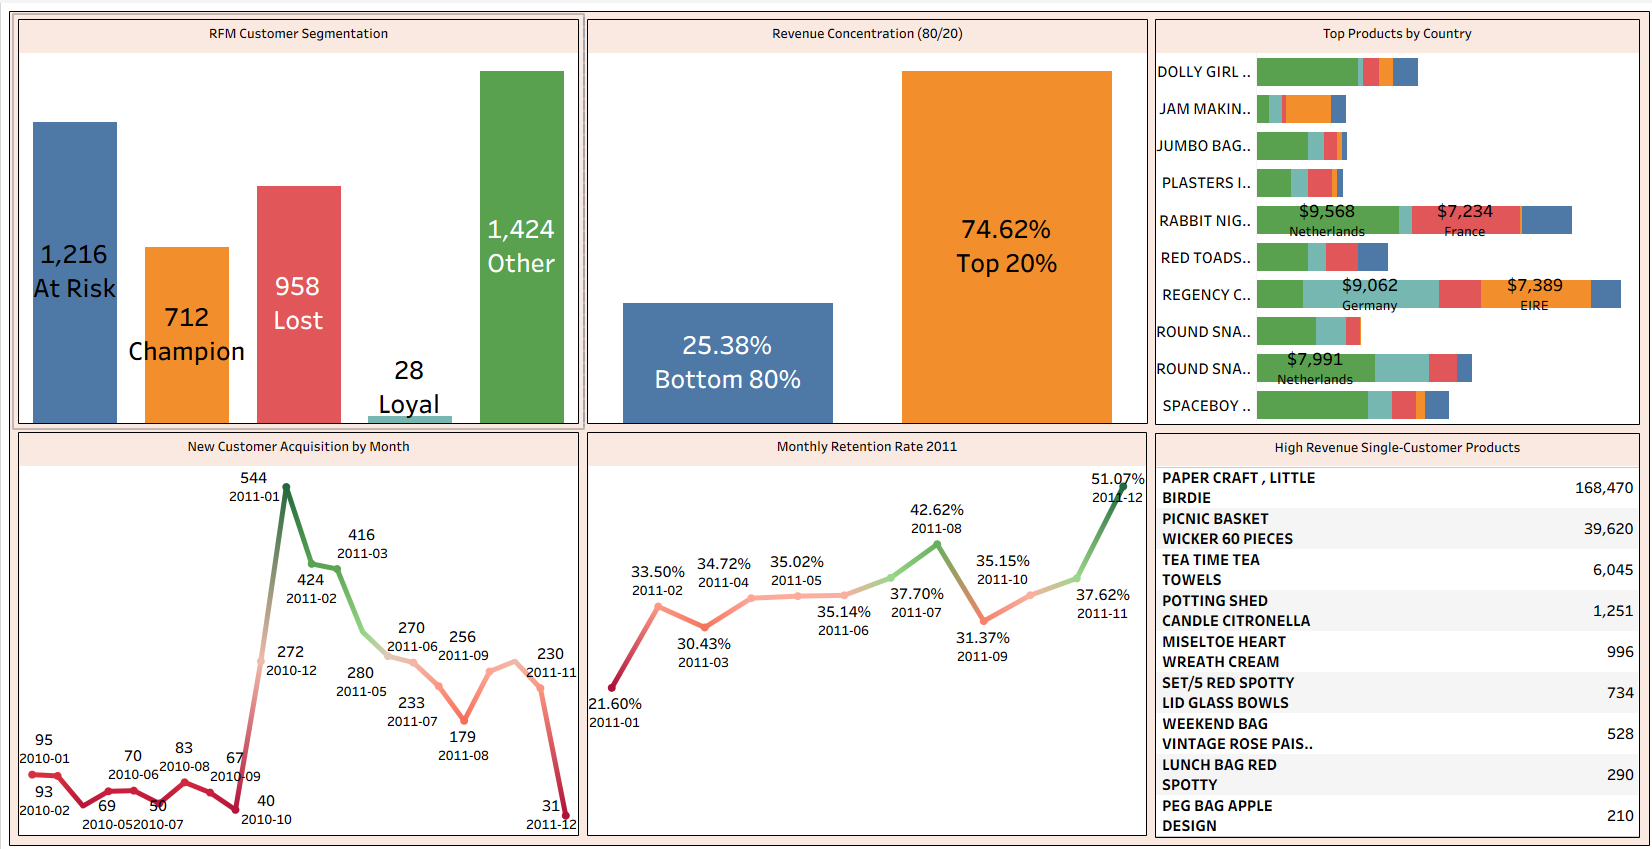

This screenshot's page, from the dashboard's own definition file:
{"tool":"tableau","page":{"name":"Dashboard 2","canvas":[1000,1000],"units":"permille","ordinal":1},"visuals":[{"type":"worksheet","title":"RFM","mark":"Automatic","rows":["CustomerID"],"cols":["Segment"],"box":[7.9,14.1,343.4,485.3]},{"type":"worksheet","title":"Revenue Concentration","mark":"Automatic","rows":["Revenue_Share"],"cols":["Customer_Group"],"box":[351.2,14.1,343.4,485.3]},{"type":"worksheet","title":"Top Products by Country","mark":"Automatic","rows":["Description"],"cols":["Revenue"],"box":[694,14.1,297.5,466.5]},{"type":"worksheet","title":"High Revenue Products","mark":"Text","rows":["Description"],"box":[694,480.6,297.5,465.3]},{"type":"worksheet","title":"New Customer Acquisition","mark":"Line","rows":["New_Customers"],"cols":["InvoiceDate"],"box":[7.9,499.4,343.4,480.6]},{"type":"worksheet","title":"Monthly Retention Rate","mark":"Line","rows":["Retention_Rate"],"cols":["Month"],"box":[351.2,499.4,342.8,480.6]},{"type":"dashboard-object","box":[889.6,949.5,99,34.1]}]}

Visuals, with their boxes on the dashboard's canvas, which has no fixed pixel size, in thousandths of its width and height (x1, y1, x2, y2). These are canvas units, not pixel positions in the 1652x849 screenshot, which may show the page scaled, cropped or inside an application window:
"RFM" worksheet: [8, 14, 351, 499]
"Revenue Concentration" worksheet: [351, 14, 695, 499]
"Top Products by Country" worksheet: [694, 14, 992, 481]
"High Revenue Products" worksheet (Text marks): [694, 481, 992, 946]
"New Customer Acquisition" worksheet (Line marks): [8, 499, 351, 980]
"Monthly Retention Rate" worksheet (Line marks): [351, 499, 694, 980]
dashboard-object: [890, 950, 989, 984]
